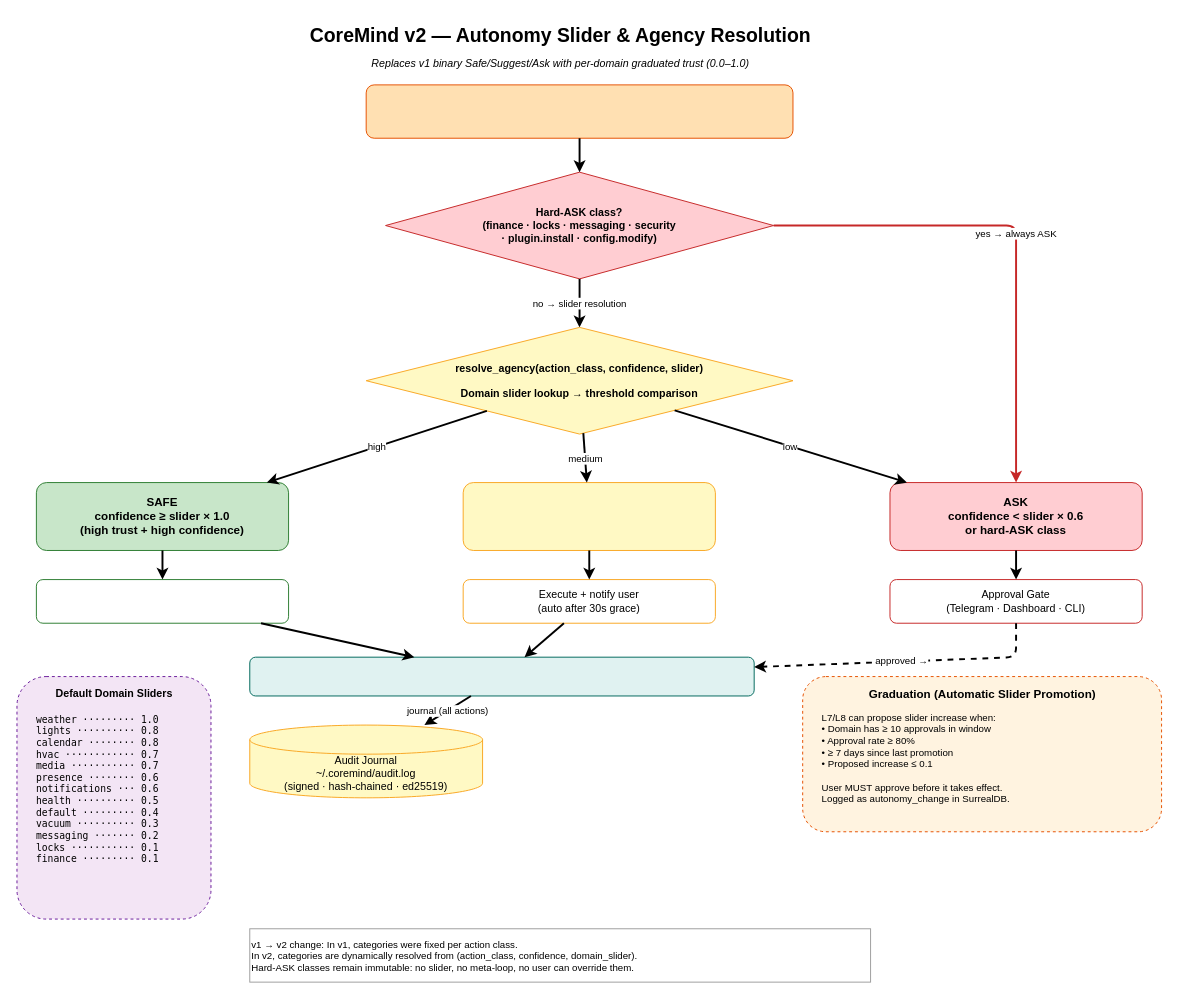
This 1179x999 diagram has some shape labels left out. The centre of each missing label's shape, as x and y in pixels:
Execute silently journal only: the point at 162,601
L5 Intention Intent { question, grounding, proposed_action, confidence }: the point at 579,111
SUGGEST confidence ≥ slider × 0.6 (moderate trust zone): the point at 588,516
Unified Actuator — dispatch to effector plugin: the point at 501,676
